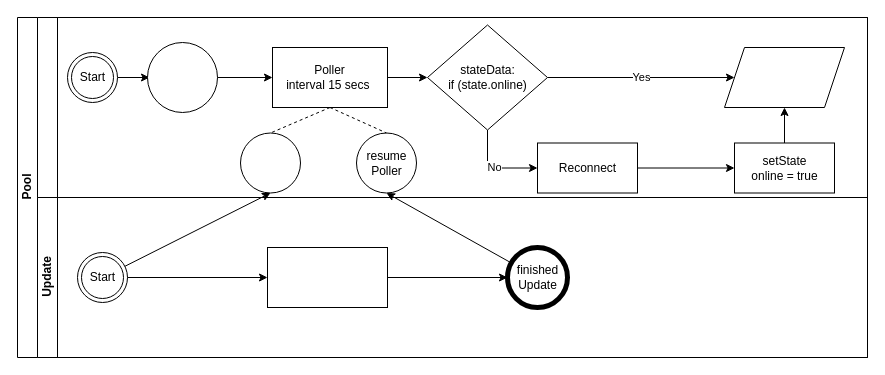
Some shapes in this 885 by 375 pixel diagram are drawn without their labels. Here are the shapes that lost their labels. From the top down, the box of each, then its label:
(146, 42, 218, 112): Connected 1st time
(724, 46, 844, 108): connected
(36, 16, 868, 198): App
(240, 132, 300, 193): pause Poller
(266, 246, 388, 308): updating
